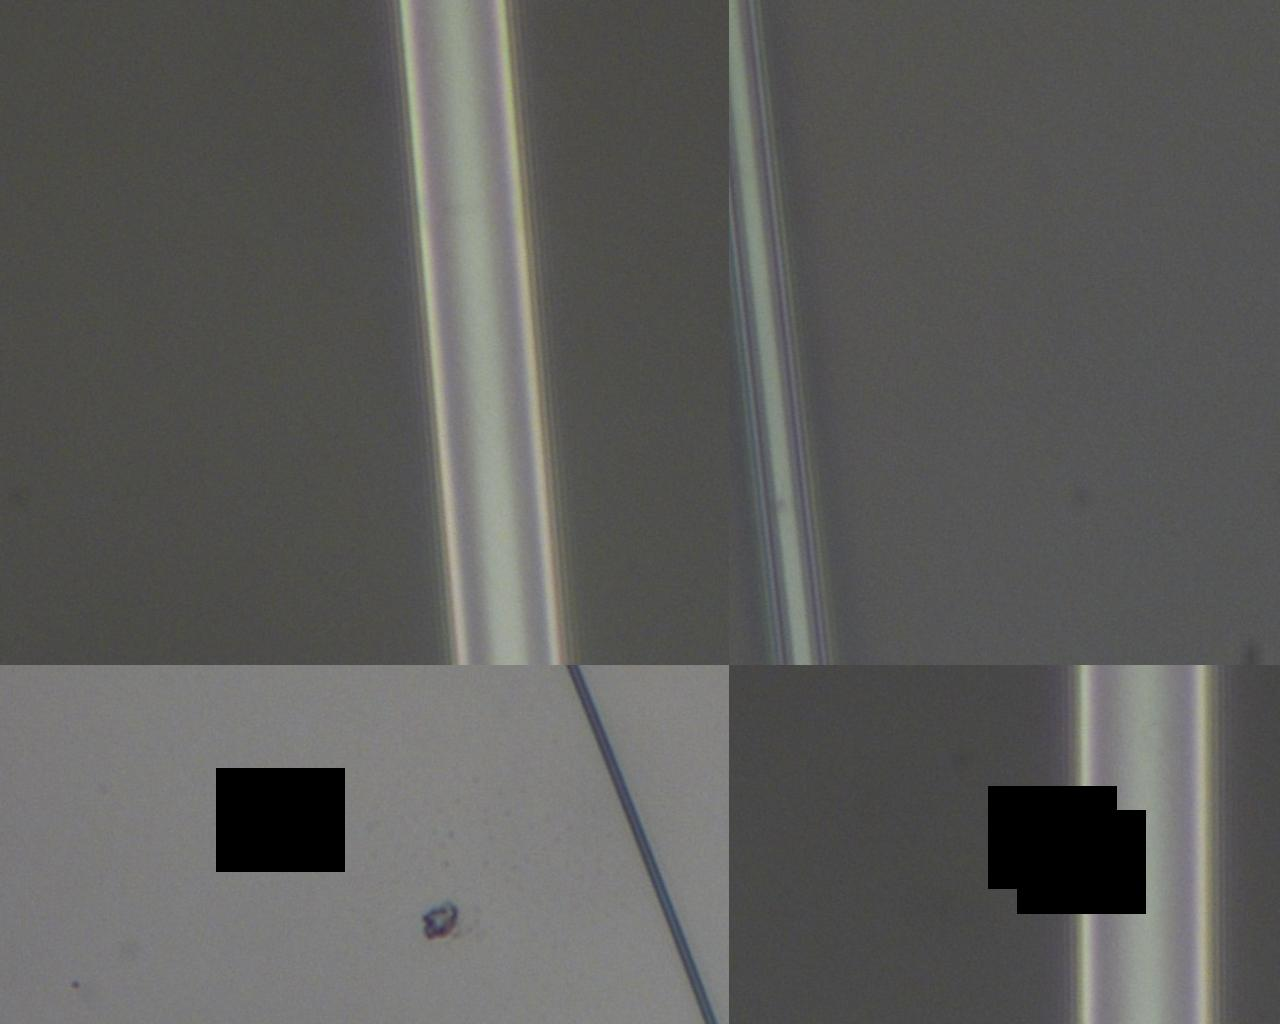fiber: (576, 0, 1195, 526), (0, 573, 159, 1024), (576, 573, 1280, 651)
